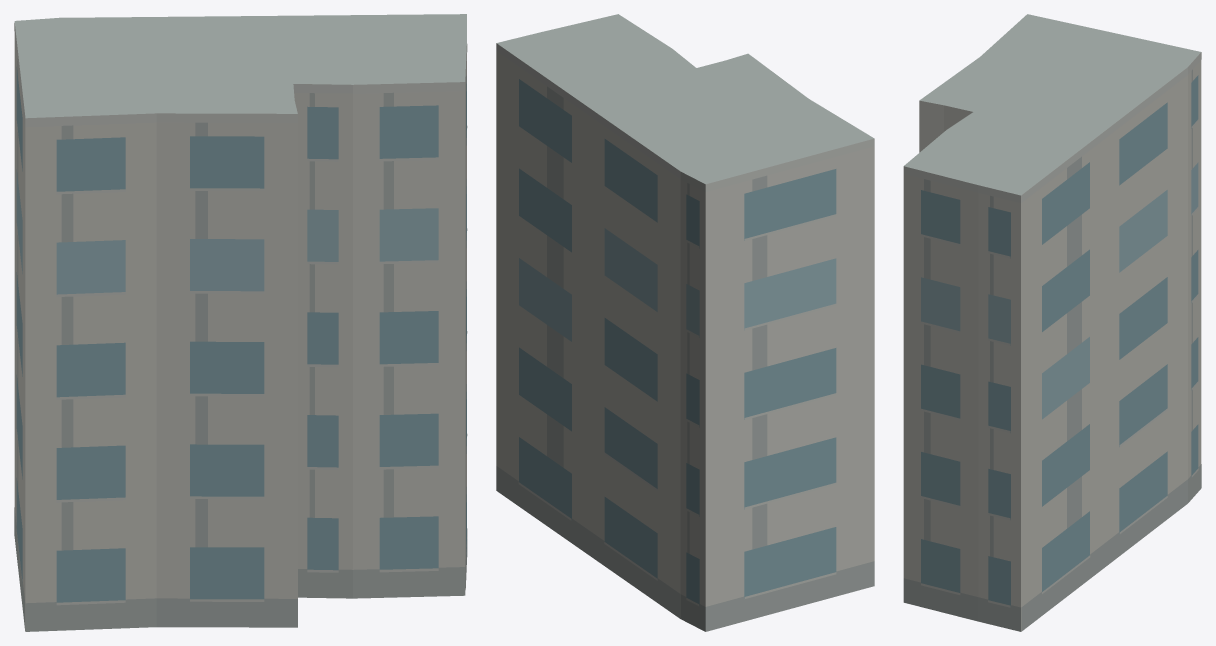
The model's file is survey-upis-32729599.glb.
The picture shows the model from 3 angles, left to right: view 1: azimuth 30°, elevation 25°; view 2: azimuth 150°, elevation 25°; view 3: azimuth 270°, elevation 25°; orthographic projection. The views are drawn at different scales.
Visible parts, largest first — view 1: survey-upis-32729599.tmp; view 2: survey-upis-32729599.tmp; view 3: survey-upis-32729599.tmp.
Boxes of the visible parts, left/top/right/bottom form: survey-upis-32729599.tmp: left=14, top=14, right=467, bottom=631; survey-upis-32729599.tmp: left=496, top=14, right=874, bottom=631; survey-upis-32729599.tmp: left=903, top=14, right=1201, bottom=631.
Size of the model in its own units: 12.41 by 13.9 by 8.61.
